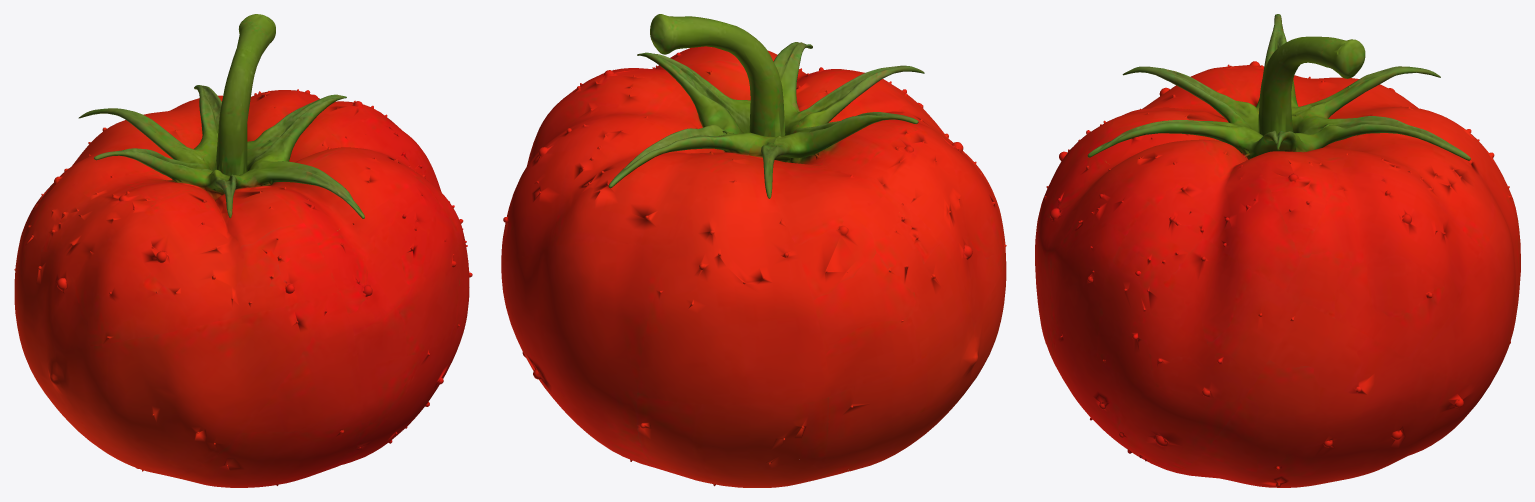
Rendered from ripe.glb.
3 views of the same model, side by side, from view 1: azimuth 30°, elevation 25°; view 2: azimuth 150°, elevation 25°; view 3: azimuth 270°, elevation 25° (orthographic). The views are drawn at different scales.
Visible parts, largest first — view 1: tripo_node_0258f191-9e65-4c9f-894c-1625081a9b0e; view 2: tripo_node_0258f191-9e65-4c9f-894c-1625081a9b0e; view 3: tripo_node_0258f191-9e65-4c9f-894c-1625081a9b0e.
Part boxes in pixels (x1,y1,x2,y2): tripo_node_0258f191-9e65-4c9f-894c-1625081a9b0e: [14, 14, 472, 487]; tripo_node_0258f191-9e65-4c9f-894c-1625081a9b0e: [501, 14, 1006, 487]; tripo_node_0258f191-9e65-4c9f-894c-1625081a9b0e: [1035, 14, 1520, 487].
Bounding box in the file's own units: 0.9789 × 0.9248 × 0.9648.
Materials: 1 (1 with a texture image).
